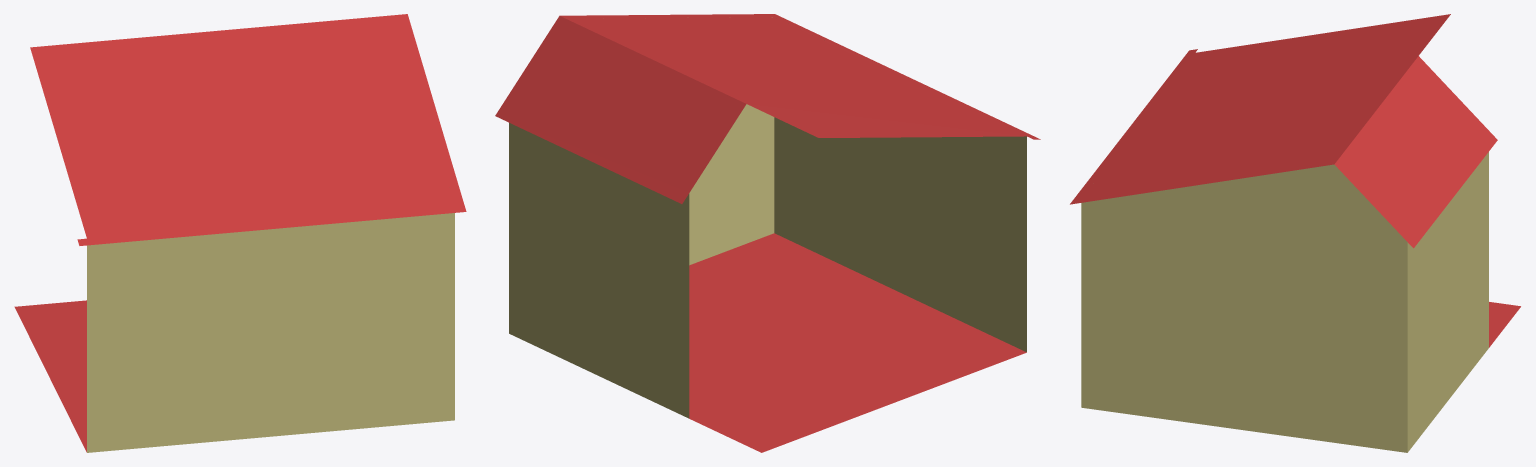
3 renders of one model, left to right at view 1: azimuth 30°, elevation 25°; view 2: azimuth 150°, elevation 25°; view 3: azimuth 270°, elevation 25°, orthographic. The views are drawn at different scales.
Bounding box in the file's own units: 12.63 × 11.94 × 8.24.
